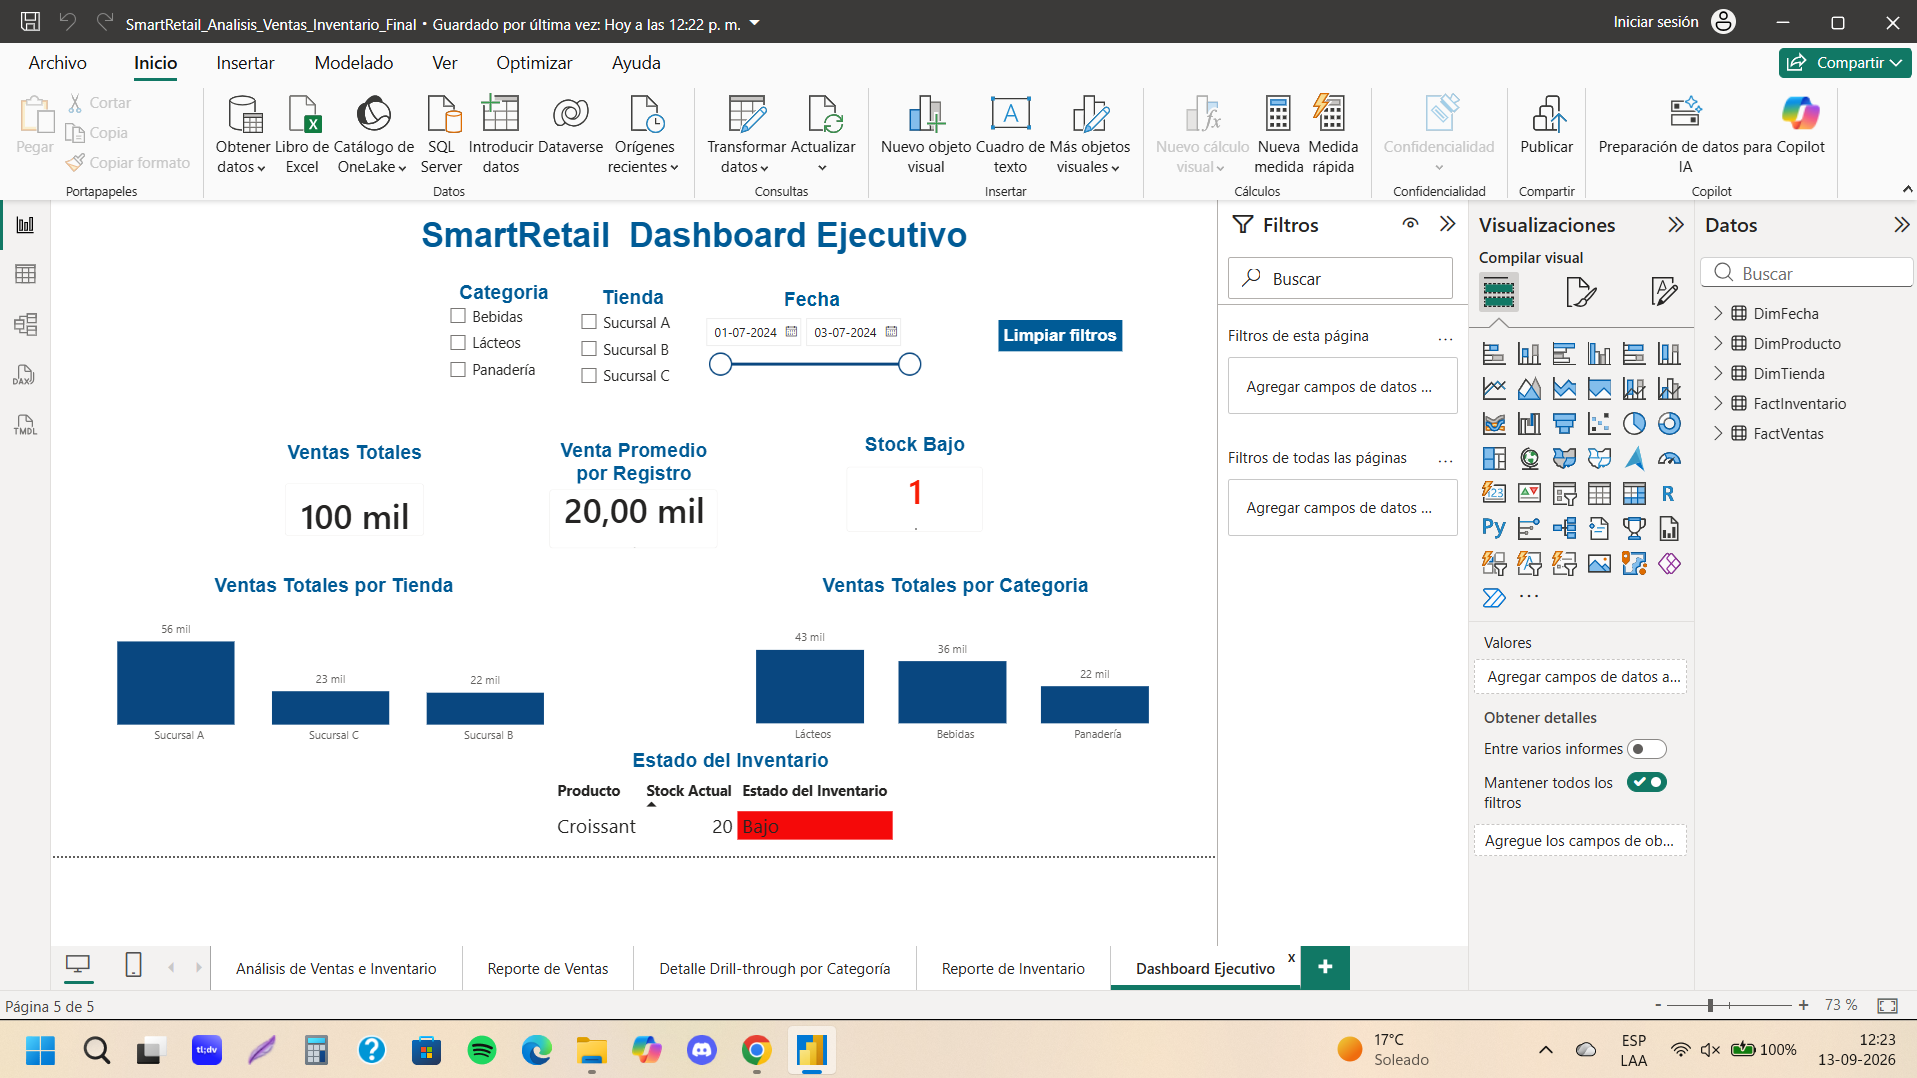

What the dashboard file says about the page in this screenshot:
{"tool":"powerbi","page":{"name":"Dashboard Ejecutivo","canvas":[1280,720],"ordinal":4},"visuals":[{"type":"cardVisual","title":"Ventas Totales","fields":{"Data":["ventas.Ventas Totales"]},"box":[241.4,257.1,183.9,127.6],"z":0},{"type":"cardVisual","title":"Stock Bajo","fields":{"Data":["inventario.Stock Bajo"]},"box":[855.7,257.1,184.3,125.7],"z":1000},{"type":"cardVisual","title":"Venta Promedio por Registro","fields":{"Data":["ventas.Promedio Ventas"]},"box":[541.4,255.7,195.7,127.1],"z":2000},{"type":"clusteredColumnChart","fields":{"Category":["DimProducto.Categoria"],"Y":["ventas.Ventas Totales"]},"box":[707.1,411.4,572.9,192.9],"z":3000},{"type":"clusteredColumnChart","fields":{"Category":["DimTienda.Tienda"],"Y":["ventas.Ventas Totales"]},"box":[0,411.4,621.4,194.3],"z":4000},{"type":"textbox","box":[390,12.9,632.9,75.7],"z":5000},{"type":"slicer","title":"Tienda","fields":{"Values":["DimTienda.Tienda"]},"box":[570,90,138.6,115.3],"z":6000},{"type":"slicer","title":"Categoria","fields":{"Values":["DimProducto.Categoria"]},"box":[425.7,88.6,144,115.5],"z":7000},{"type":"slicer","title":"Fecha","fields":{"Values":["DimFecha.Fecha"]},"box":[707.1,90,257.1,115.7],"z":8000},{"type":"tableEx","title":"Estado del Inventario","fields":{"Values":["DimProducto.Producto","inventario.Stock_Actual","inventario.Estado_Inventario"]},"box":[544.3,604.3,402.9,115.7],"z":9000},{"type":"actionButton","title":"Limpiar filtros","box":[1040,131.4,135.7,34.3],"z":10000}]}

Visuals, with their boxes on the page's 1280x720 design canvas (x1, y1, x2, y2). These are canvas units, not pixel positions in the 1917x1078 screenshot, which may show the page scaled, cropped or inside an application window:
"Ventas Totales" cardVisual: BBox(241, 257, 425, 385)
"Stock Bajo" cardVisual: BBox(856, 257, 1040, 383)
"Venta Promedio por Registro" cardVisual: BBox(541, 256, 737, 383)
clusteredColumnChart - DimProducto.Categoria x ventas.Ventas Totales: BBox(707, 411, 1280, 604)
clusteredColumnChart - DimTienda.Tienda x ventas.Ventas Totales: BBox(0, 411, 621, 606)
textbox: BBox(390, 13, 1023, 89)
"Tienda" slicer: BBox(570, 90, 709, 205)
"Categoria" slicer: BBox(426, 89, 570, 204)
"Fecha" slicer: BBox(707, 90, 964, 206)
"Estado del Inventario" tableEx: BBox(544, 604, 947, 720)
"Limpiar filtros" actionButton: BBox(1040, 131, 1176, 166)
